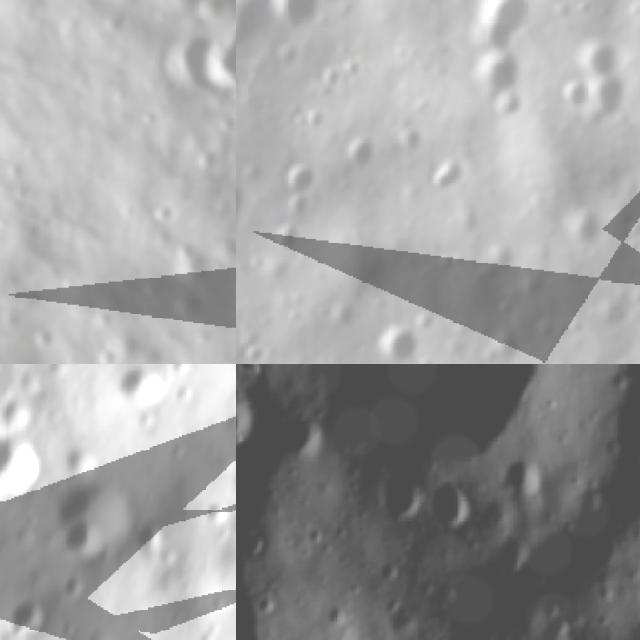crater: (245, 364, 580, 535), (44, 472, 134, 558), (361, 454, 423, 535), (163, 24, 219, 93), (418, 476, 478, 538), (0, 425, 45, 498), (472, 49, 524, 112), (553, 204, 609, 262), (472, 0, 529, 50), (574, 35, 628, 87), (112, 364, 169, 409), (428, 147, 472, 200), (51, 519, 102, 564), (2, 593, 50, 639), (495, 448, 542, 494), (205, 24, 236, 91), (375, 322, 418, 364), (348, 130, 384, 176), (276, 160, 326, 193), (0, 388, 43, 425), (273, 0, 322, 30), (236, 373, 255, 442), (560, 73, 588, 114), (132, 510, 160, 550), (190, 140, 220, 177), (209, 106, 236, 146), (33, 315, 60, 354), (201, 495, 234, 526), (147, 202, 176, 230), (619, 364, 640, 393), (55, 570, 81, 593), (91, 341, 111, 364), (94, 312, 116, 331)
